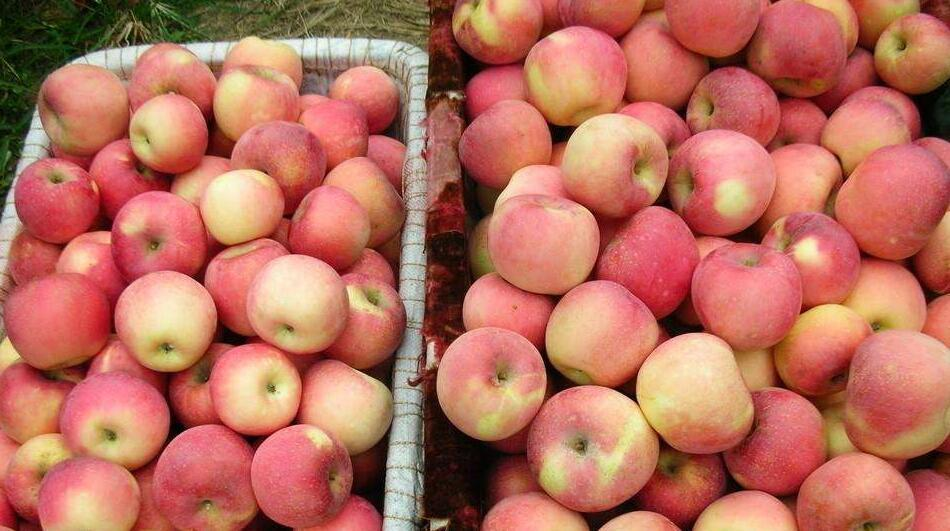apple: (525, 386, 660, 514), (636, 329, 753, 454), (840, 333, 949, 465), (435, 328, 549, 449), (834, 143, 949, 259), (543, 280, 660, 387), (149, 422, 260, 531), (667, 127, 775, 238), (692, 242, 802, 349), (487, 192, 598, 296), (596, 206, 694, 323), (561, 114, 669, 219), (726, 387, 830, 493), (521, 24, 628, 125), (247, 425, 353, 526), (60, 372, 168, 470), (3, 275, 113, 370), (113, 270, 216, 371), (247, 254, 349, 354), (771, 303, 875, 399), (794, 453, 916, 531), (296, 357, 395, 453), (749, 2, 845, 100), (230, 120, 328, 215), (760, 212, 859, 306), (34, 63, 130, 155), (200, 238, 290, 336), (211, 342, 303, 436), (112, 191, 207, 282), (459, 100, 554, 190), (617, 12, 708, 105), (817, 95, 916, 180), (325, 272, 405, 370), (36, 455, 139, 531), (635, 440, 727, 525), (15, 157, 102, 243), (685, 67, 781, 144), (288, 184, 371, 271), (1, 359, 83, 447), (126, 43, 217, 121), (212, 66, 300, 146), (872, 12, 949, 98), (90, 141, 170, 222), (843, 259, 927, 336), (200, 168, 286, 242), (127, 94, 206, 174), (4, 434, 73, 522), (453, 1, 544, 66), (168, 342, 234, 427), (299, 98, 367, 165)
